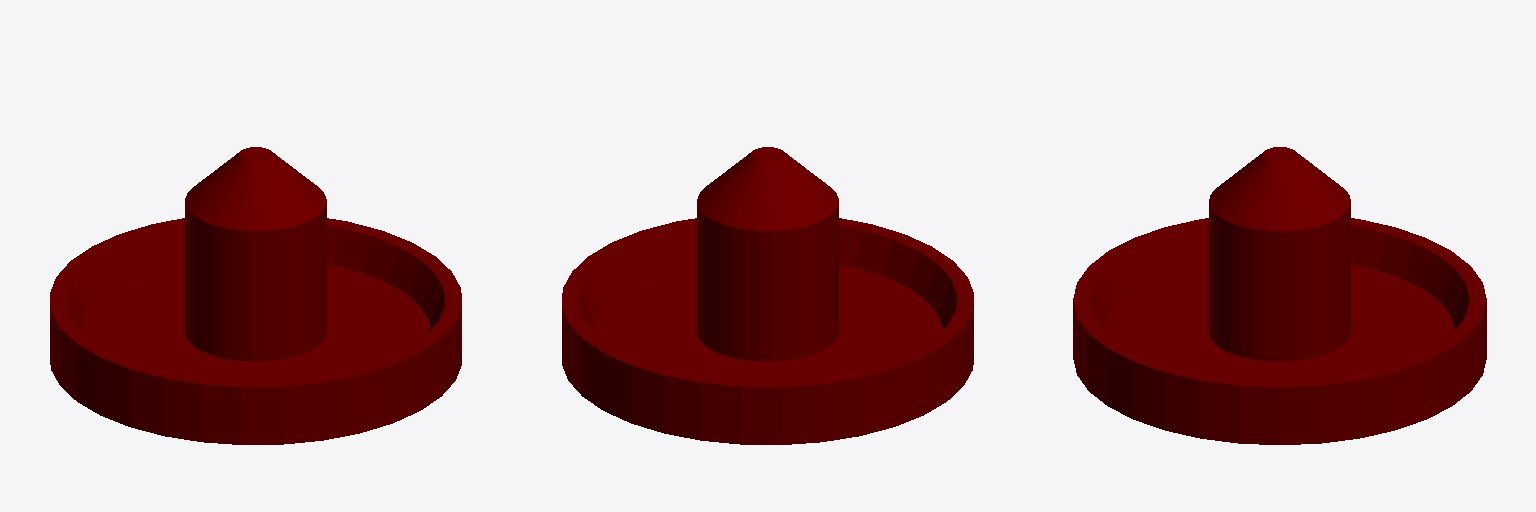
Rendered from Paddle.obj.
3 views of the same model, side by side, from view 1: azimuth 30°, elevation 25°; view 2: azimuth 150°, elevation 25°; view 3: azimuth 270°, elevation 25° (orthographic).
Parts seen in each view (by area): view 1: Circle; view 2: Circle; view 3: Circle.
Part boxes in pixels (x1,y1,x2,y2): Circle: (50,147,461,444); Circle: (562,147,973,444); Circle: (1073,147,1486,444).
Bounding box in the file's own units: 0.1337 × 0.0727 × 0.1337.